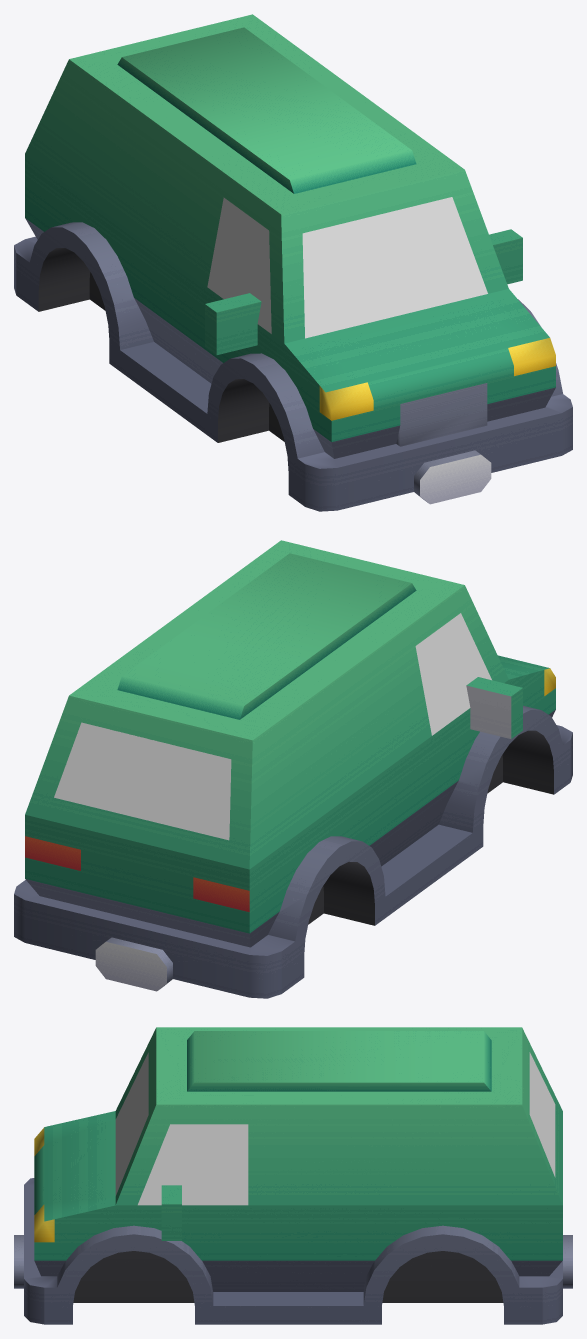
File: vanGreenbody.glb
3 views of the same model, one above another, from view 1: azimuth 30°, elevation 25°; view 2: azimuth 150°, elevation 25°; view 3: azimuth 270°, elevation 25° (orthographic). The views are drawn at different scales.
Visible parts, largest first — view 1: body, bodyFrontWindow, bodyRightWindow; view 2: body, bodyRearWindow, bodyRightWindow; view 3: body, bodyLeftWindow, bodyFrontWindow, bodyRearWindow.
Boxes of the visible parts, box(x1,y1,x2,y2) form: body: box(14, 14, 572, 511); bodyFrontWindow: box(302, 197, 487, 338); bodyRightWindow: box(207, 197, 271, 333); body: box(14, 540, 572, 998); bodyRearWindow: box(54, 722, 231, 840); bodyRightWindow: box(415, 613, 491, 735); body: box(14, 1027, 572, 1324); bodyLeftWindow: box(138, 1124, 248, 1205); bodyFrontWindow: box(115, 1052, 148, 1195); bodyRearWindow: box(529, 1052, 555, 1177).
Size of the model in its own units: 1.5 by 1.2 by 2.75.
Materials: 2 (1 with a texture image).
